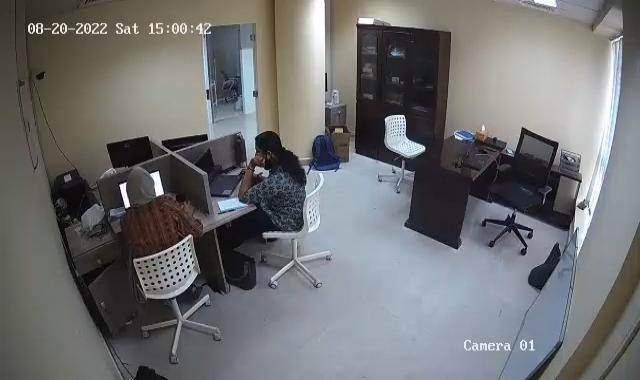no_hairnet: (248, 126, 286, 173), (123, 165, 161, 210)
